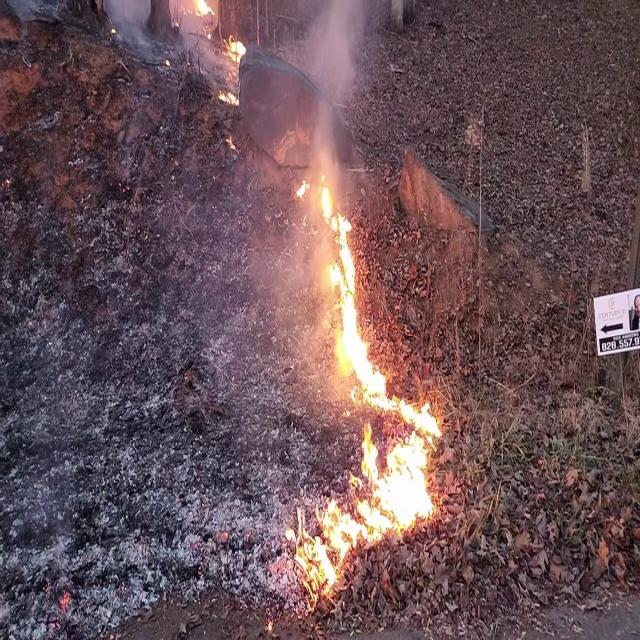Fire: (290, 163, 450, 594), (218, 26, 248, 104), (183, 0, 215, 31)
Smoke: (298, 0, 374, 164)
